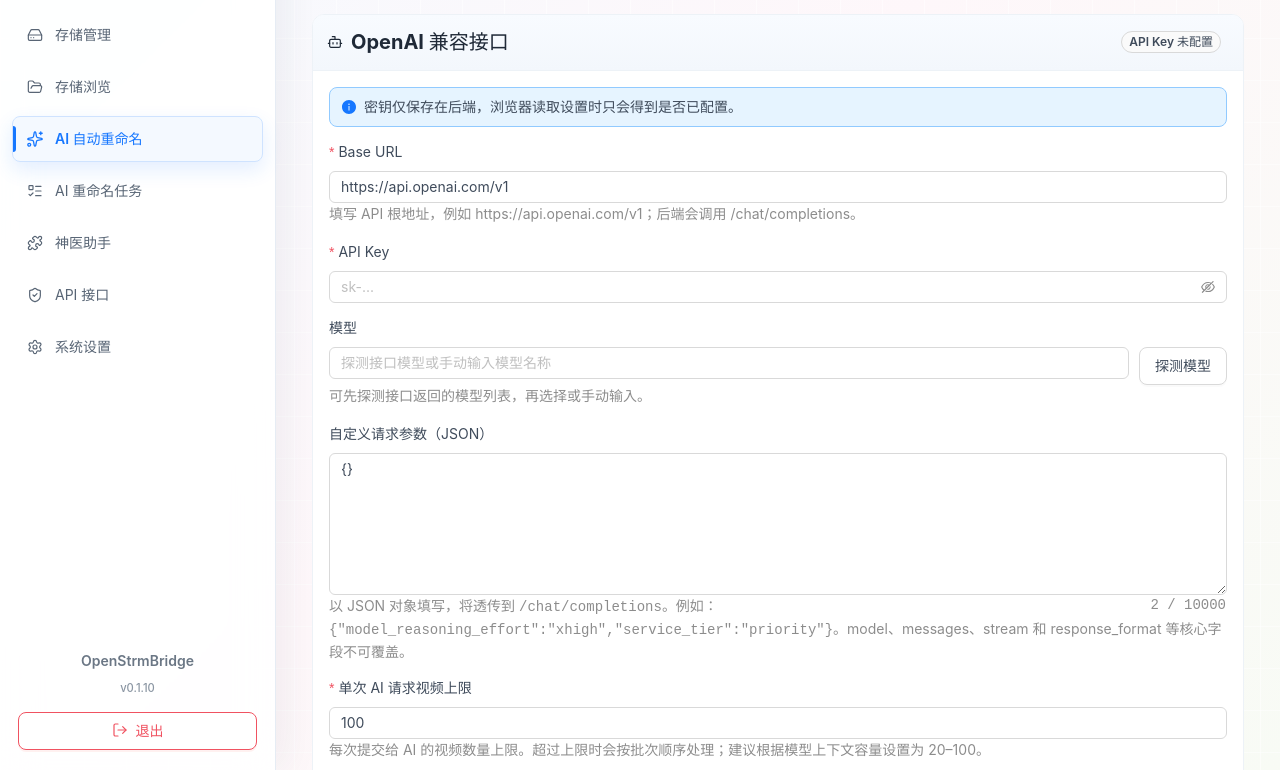
it: OpenStrmBridge shell › saves AI rename settings without echoing the API key
Type "secret-key" into the password field labelled "API Key" at point(769, 287), box [341,276,1197,298]
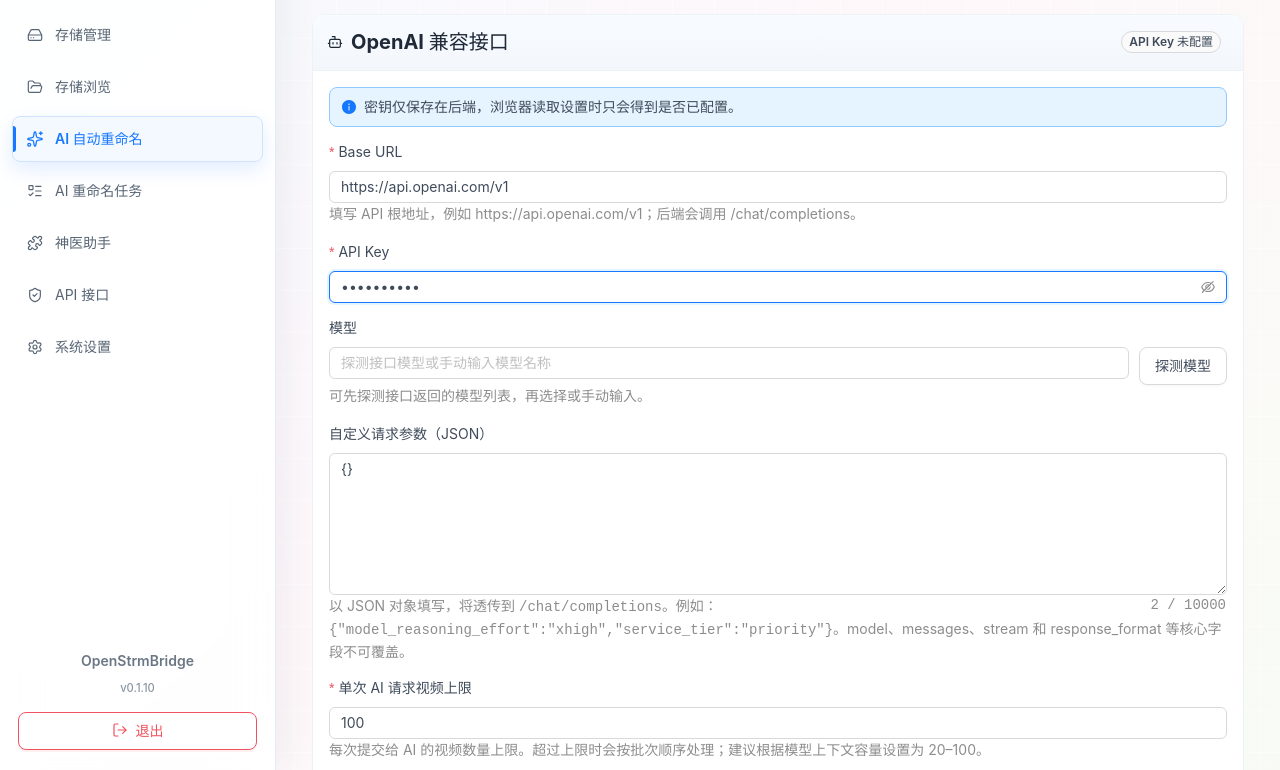
Type "test-model" into the dropdown named "模型" at point(729, 363), box [341,348,1117,378]
(page scrolled)
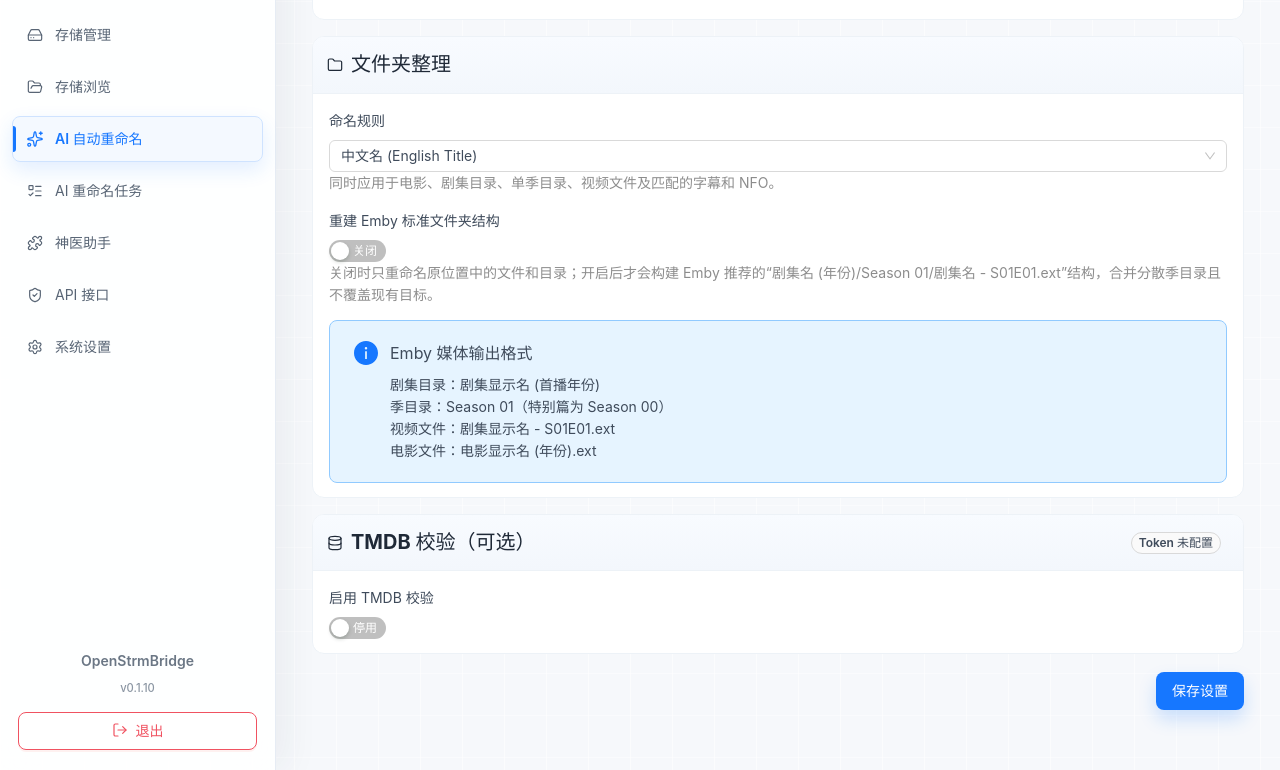
Click the button "保存设置" at point(1200, 692), box [1156,672,1244,710]
(page scrolled)
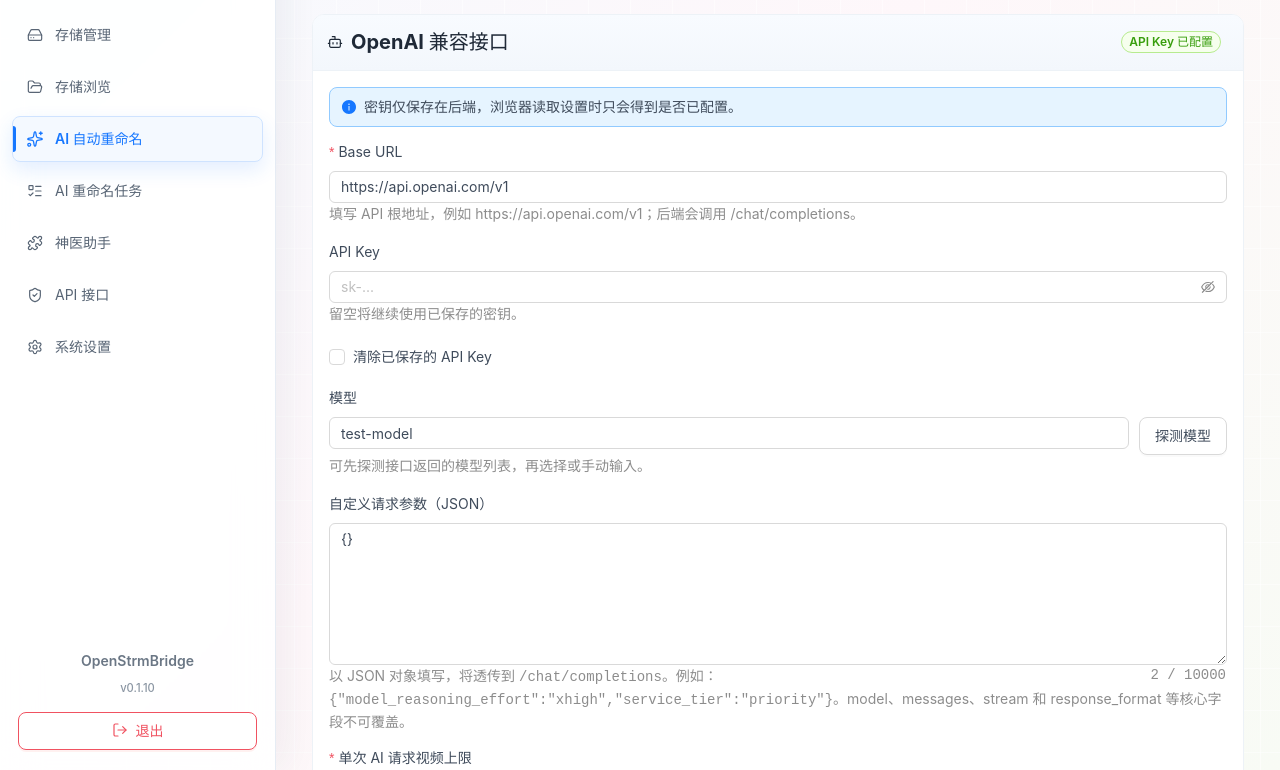
expect the text "API Key 已配置" is shown: met, box [1121,31,1221,53]
expect the password field labelled "API Key" is empty: met, box [341,276,1197,298]
